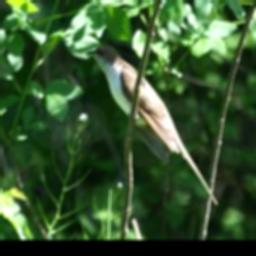Cuckoo: (86, 43, 219, 206)
